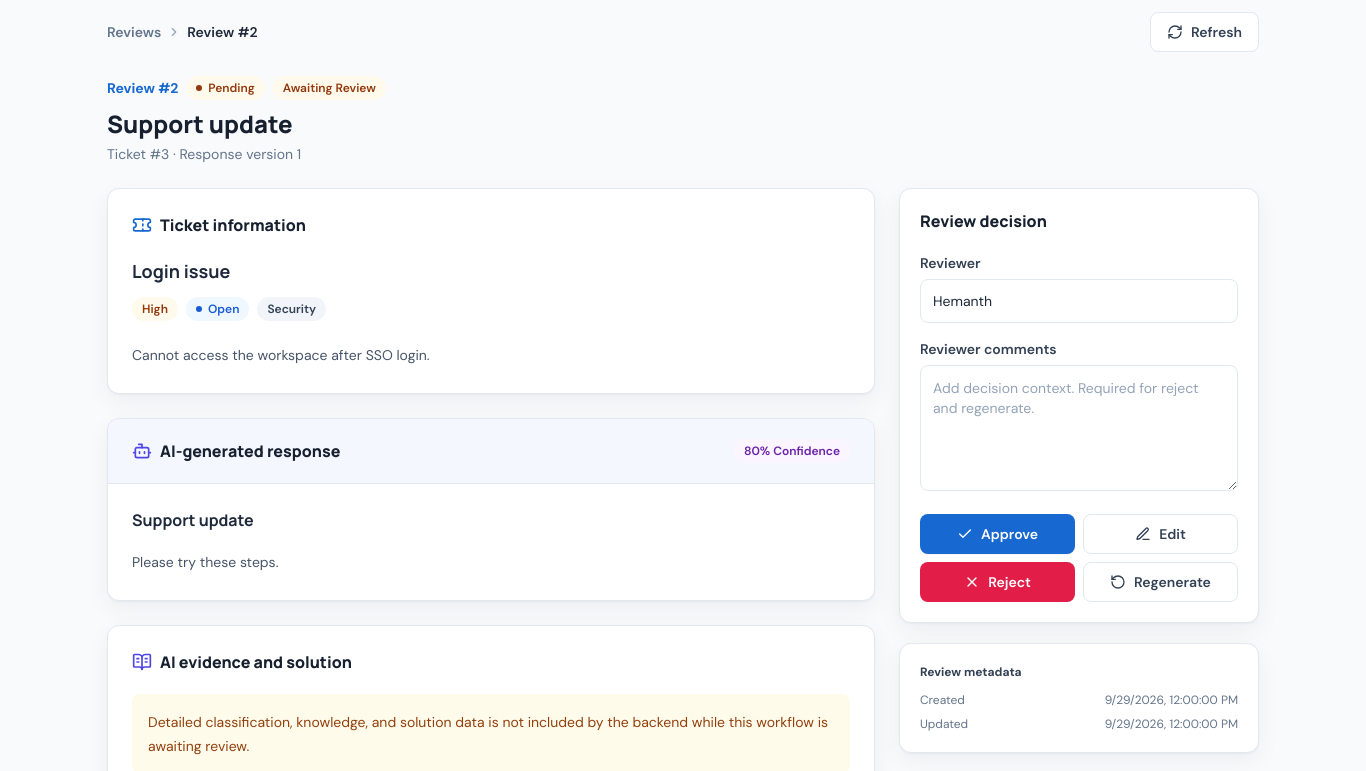
Scenario: ReviewDetailsPage › requires comments before rejecting
This screenshot has width=1366, height=771.
Expected: the text "Please try these steps." is shown, [132,553,278,571]
Click the button "Reject".
click(998, 582)  # box [920,562,1075,602]
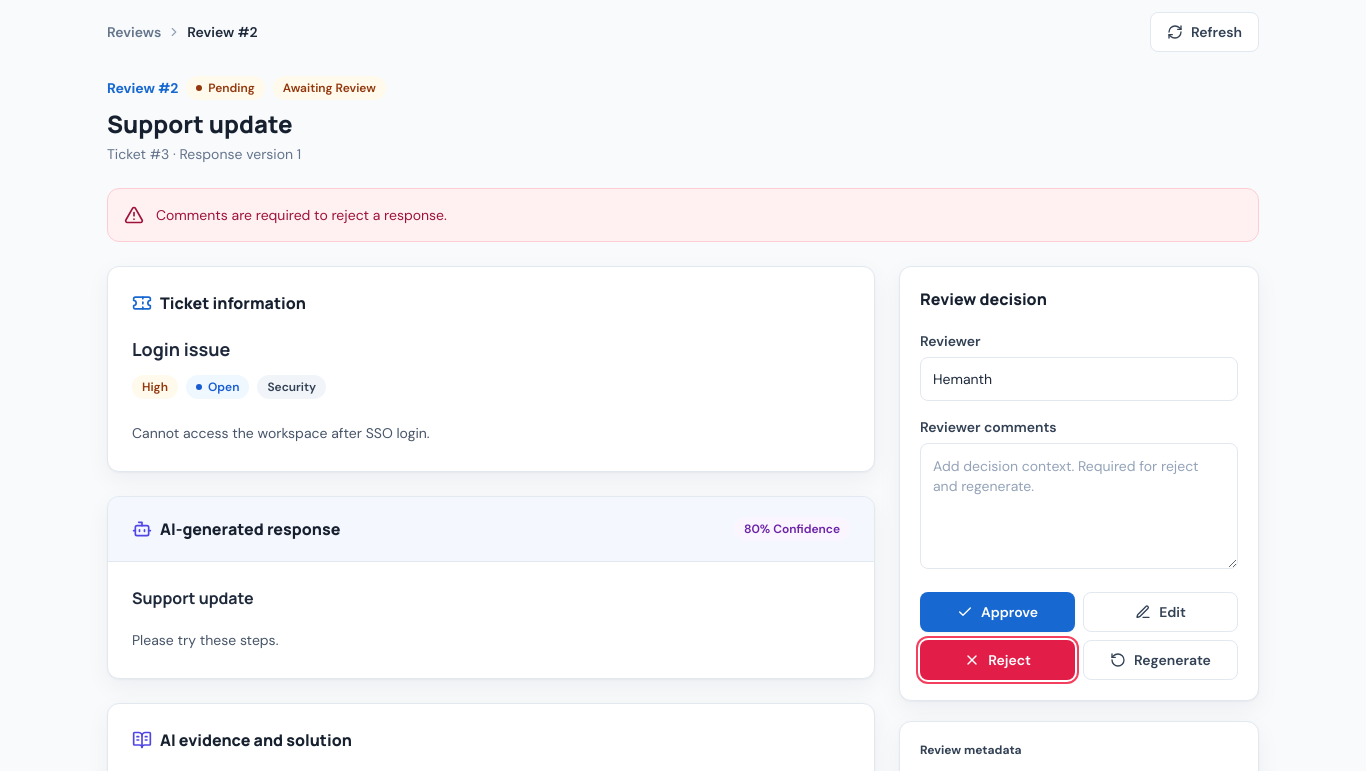
Result: the text "Comments are required to reject a response." is shown at [107,188,1259,242]
